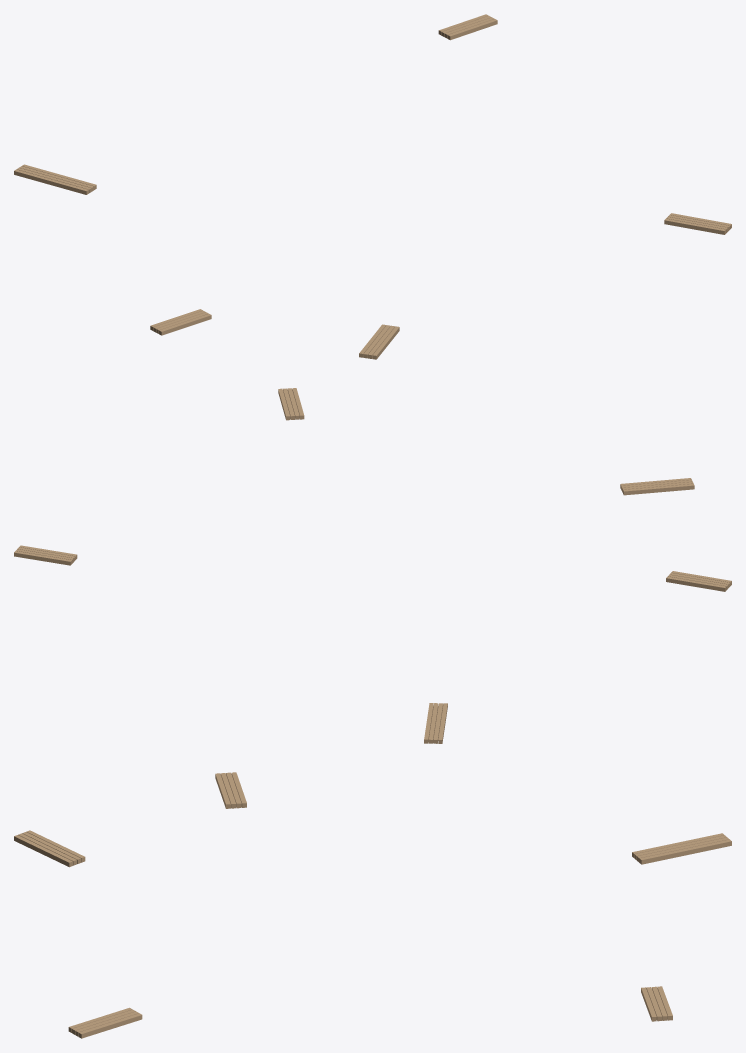
Rendered from Intro_Planters_Benches.glb.
The picture shows the model from 3 angles, top to bottom: view 1: azimuth 30°, elevation 25°; view 2: azimuth 150°, elevation 25°; view 3: azimuth 270°, elevation 25°; orthographic projection. The views are drawn at different scales.
Parts seen in each view (by area): view 1: Intro_Planters_Benches; view 2: Intro_Planters_Benches; view 3: Intro_Planters_Benches.
Boxes of the visible parts, x1=… form: Intro_Planters_Benches: x1=14, y1=14, x2=731, y2=359; Intro_Planters_Benches: x1=14, y1=388, x2=731, y2=743; Intro_Planters_Benches: x1=14, y1=772, x2=731, y2=1038.
Bounding box in the file's own units: 12.33 × 1.48 × 12.57.
